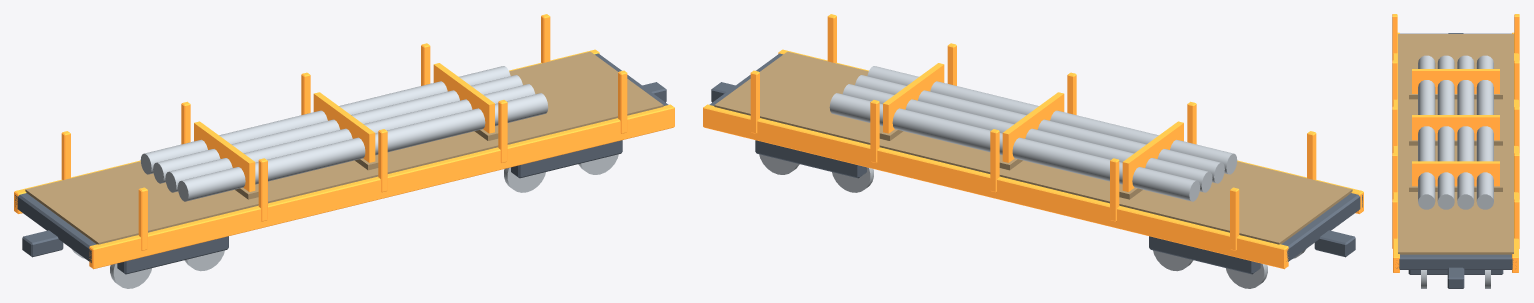
Rendered from rebar-wagon-v4-medium.glb.
The picture shows the model from 3 angles, left to right: view 1: azimuth 30°, elevation 25°; view 2: azimuth 150°, elevation 25°; view 3: azimuth 270°, elevation 25°; orthographic projection. The views are drawn at different scales.
Parts seen in each view (by area): view 1: rebar-wagon-v4-high.glb-v5_crane_orange, rebar-wagon-v4-high.glb-v5_timber_dunnage, rebar-wagon-v4-high.glb-v5_bright_steel, rebar-wagon-v4-high.glb-v5_heavy_gunmetal; view 2: rebar-wagon-v4-high.glb-v5_crane_orange, rebar-wagon-v4-high.glb-v5_timber_dunnage, rebar-wagon-v4-high.glb-v5_bright_steel, rebar-wagon-v4-high.glb-v5_heavy_gunmetal; view 3: rebar-wagon-v4-high.glb-v5_timber_dunnage, rebar-wagon-v4-high.glb-v5_bright_steel, rebar-wagon-v4-high.glb-v5_crane_orange, rebar-wagon-v4-high.glb-v5_heavy_gunmetal.
Part boxes in pixels (bbox=[...]): rebar-wagon-v4-high.glb-v5_crane_orange: bbox=[14, 14, 674, 269]; rebar-wagon-v4-high.glb-v5_timber_dunnage: bbox=[25, 51, 663, 244]; rebar-wagon-v4-high.glb-v5_bright_steel: bbox=[72, 66, 618, 288]; rebar-wagon-v4-high.glb-v5_heavy_gunmetal: bbox=[15, 53, 668, 274]; rebar-wagon-v4-high.glb-v5_crane_orange: bbox=[703, 14, 1363, 269]; rebar-wagon-v4-high.glb-v5_timber_dunnage: bbox=[714, 51, 1352, 244]; rebar-wagon-v4-high.glb-v5_bright_steel: bbox=[759, 66, 1305, 288]; rebar-wagon-v4-high.glb-v5_heavy_gunmetal: bbox=[709, 53, 1362, 274]; rebar-wagon-v4-high.glb-v5_timber_dunnage: bbox=[1398, 34, 1513, 254]; rebar-wagon-v4-high.glb-v5_bright_steel: bbox=[1418, 55, 1493, 288]; rebar-wagon-v4-high.glb-v5_crane_orange: bbox=[1392, 14, 1519, 272]; rebar-wagon-v4-high.glb-v5_heavy_gunmetal: bbox=[1396, 33, 1513, 288].
Bounding box in the file's own units: 14.85 × 2.53 × 3.26.
